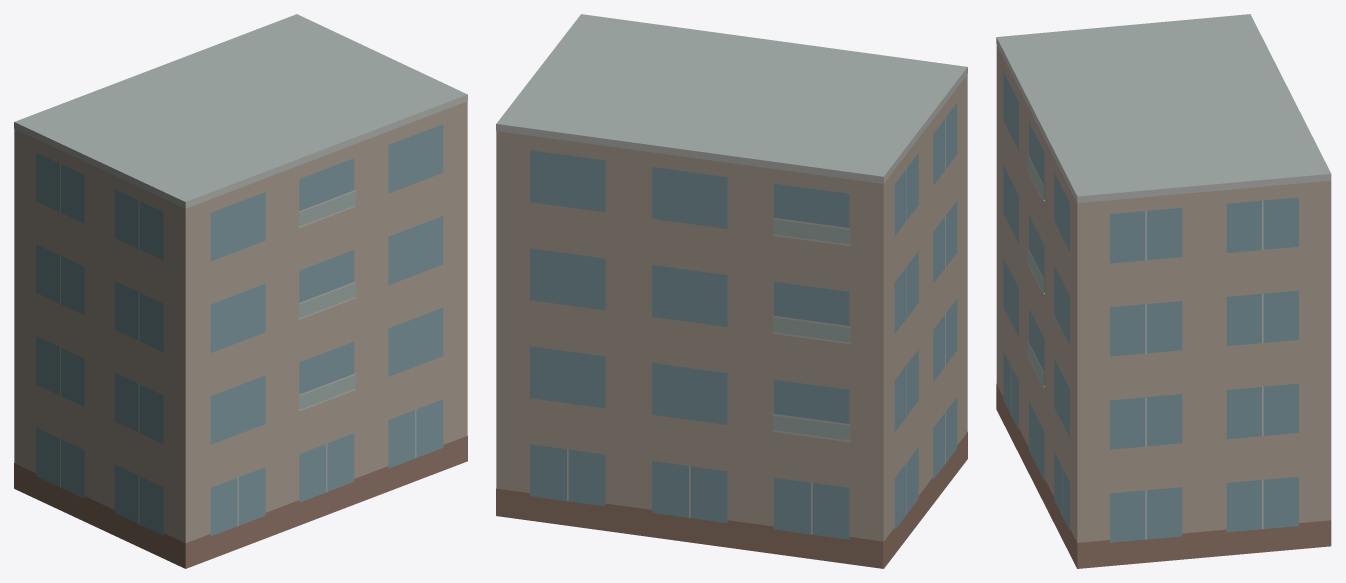
The model's file is survey-upis-32867135.glb.
3 renders of one model, left to right at view 1: azimuth 30°, elevation 25°; view 2: azimuth 150°, elevation 25°; view 3: azimuth 270°, elevation 25°, orthographic. The views are drawn at different scales.
Visible parts, largest first — view 1: survey-upis-32867135.tmp; view 2: survey-upis-32867135.tmp; view 3: survey-upis-32867135.tmp.
Part boxes in pixels (x1,y1,x2,y2): survey-upis-32867135.tmp: [14, 14, 467, 568]; survey-upis-32867135.tmp: [496, 14, 967, 568]; survey-upis-32867135.tmp: [996, 14, 1331, 568].
Size of the model in its own units: 14.2 by 13.5 by 11.02.
